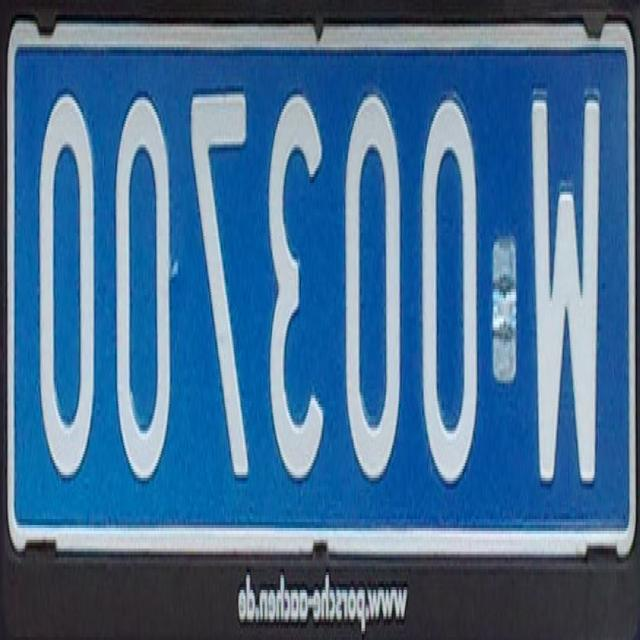pl_license_plate: (12, 35, 633, 534)
